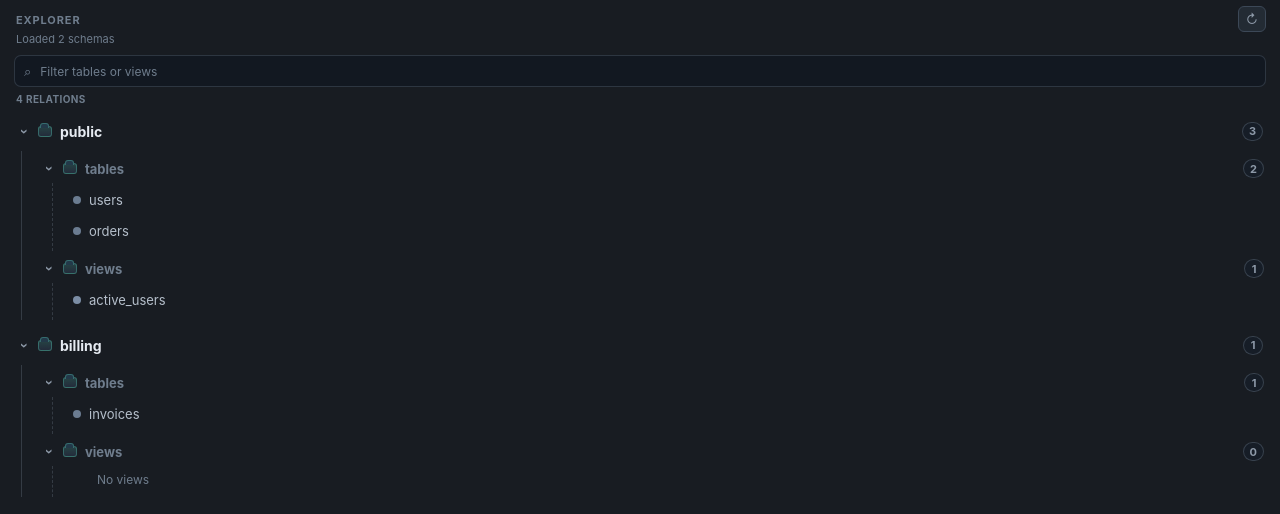
Test: DatabaseExplorer › shows a focused empty state when the filter has no matches
Type "audit_log" into the search field labelled "Filter tables or views" at coordinates (647, 71), box [38,63,1256,80]
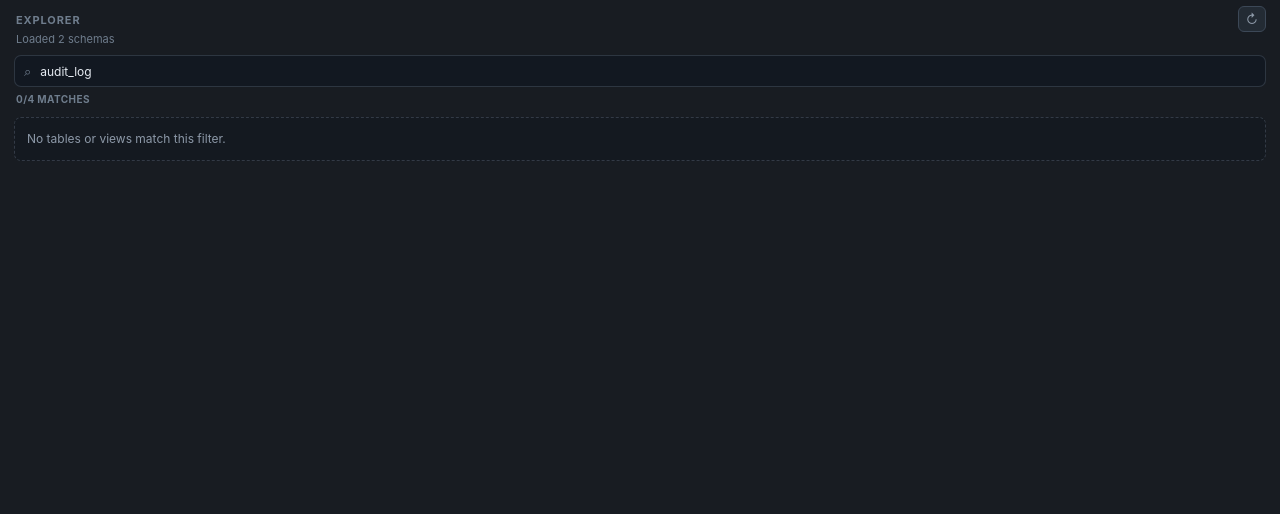
Result: the text "No tables or views match this filter." is shown at [14,117,1266,161]
